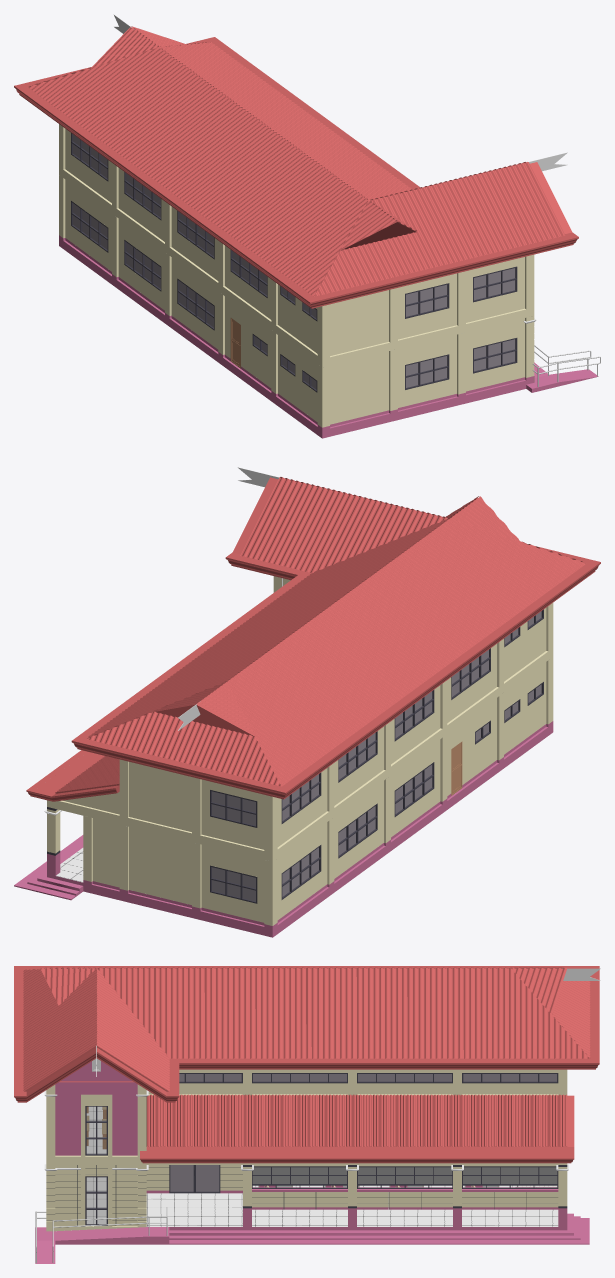
The model's file is Registrar output.glb.
3 renders of one model, top to bottom at view 1: azimuth 30°, elevation 25°; view 2: azimuth 150°, elevation 25°; view 3: azimuth 270°, elevation 25°, orthographic. The views are drawn at different scales.
Parts seen in each view (by area): view 1: 3DGeom-7, 3DGeom-18, 3DGeom-125, 3DGeom-15, 3DGeom-16, 3DGeom-9, 3DGeom-24, 3DGeom-1, 3DGeom-28 (×4), 3DGeom-5, 3DGeom-32 (×3), 3DGeom-133 (×3) (+2 smaller); view 2: 3DGeom-7, 3DGeom-18, 3DGeom-125, 3DGeom-16, 3DGeom-9, 3DGeom-11, 3DGeom-24, 3DGeom-12, 3DGeom-1, 3DGeom-5, 3DGeom-133 (×4), 3DGeom-32 (×3) (+7 smaller); view 3: 3DGeom-9, 3DGeom-189, 3DGeom-18, 3DGeom-5, 3DGeom-16, 3DGeom-125, 3DGeom-21, 3DGeom-24, 3DGeom-118, 3DGeom-15, 3DGeom-47 (×3), 3DGeom-190 (+25 smaller).
Boxes of the visible parts, box(x1,y1,x2,y2) form: 3DGeom-7: box(29, 47, 367, 295); 3DGeom-18: box(59, 175, 534, 427); 3DGeom-125: box(59, 124, 534, 367); 3DGeom-15: box(314, 162, 564, 296); 3DGeom-16: box(14, 37, 578, 308); 3DGeom-9: box(160, 42, 413, 200); 3DGeom-24: box(59, 235, 598, 438); 3DGeom-1: box(28, 29, 416, 296); 3DGeom-28 (×4): box(406, 268, 515, 387); 3DGeom-5: box(92, 49, 564, 296); 3DGeom-32 (×3): box(73, 203, 213, 327); 3DGeom-133 (×3): box(73, 134, 213, 256); 3DGeom-7: box(227, 519, 584, 785); 3DGeom-18: box(47, 657, 553, 925); 3DGeom-125: box(47, 576, 553, 861); 3DGeom-16: box(71, 477, 600, 799); 3DGeom-9: box(87, 519, 448, 738); 3DGeom-11: box(240, 477, 448, 572); 3DGeom-24: box(47, 721, 553, 937); 3DGeom-12: box(86, 711, 280, 785); 3DGeom-1: box(88, 502, 585, 786); 3DGeom-5: box(89, 487, 447, 737); 3DGeom-133 (×4): box(282, 650, 488, 820); 3DGeom-32 (×3): box(282, 764, 432, 896); 3DGeom-9: box(98, 968, 589, 1058); 3DGeom-189: box(146, 1094, 567, 1146); 3DGeom-18: box(46, 1165, 567, 1231); 3DGeom-5: box(24, 968, 587, 1091); 3DGeom-16: box(14, 966, 599, 1102); 3DGeom-125: box(46, 1069, 567, 1164); 3DGeom-21: box(86, 1177, 558, 1226); 3DGeom-24: box(35, 1187, 567, 1263); 3DGeom-118: box(169, 1213, 589, 1244); 3DGeom-15: box(23, 968, 96, 1090); 3DGeom-47 (×3): box(252, 1167, 557, 1183); 3DGeom-190: box(140, 1095, 574, 1163).
Size of the model in its own units: 15.31 by 9.8 by 26.07.
22 materials, 5 textured.
